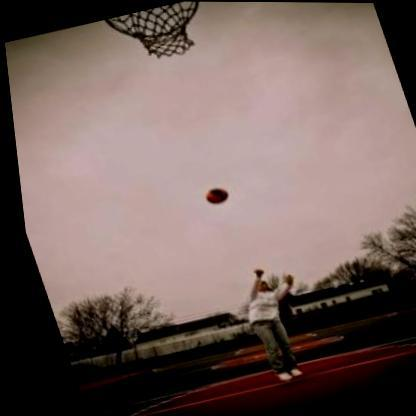basketball: (194, 177, 229, 211)
